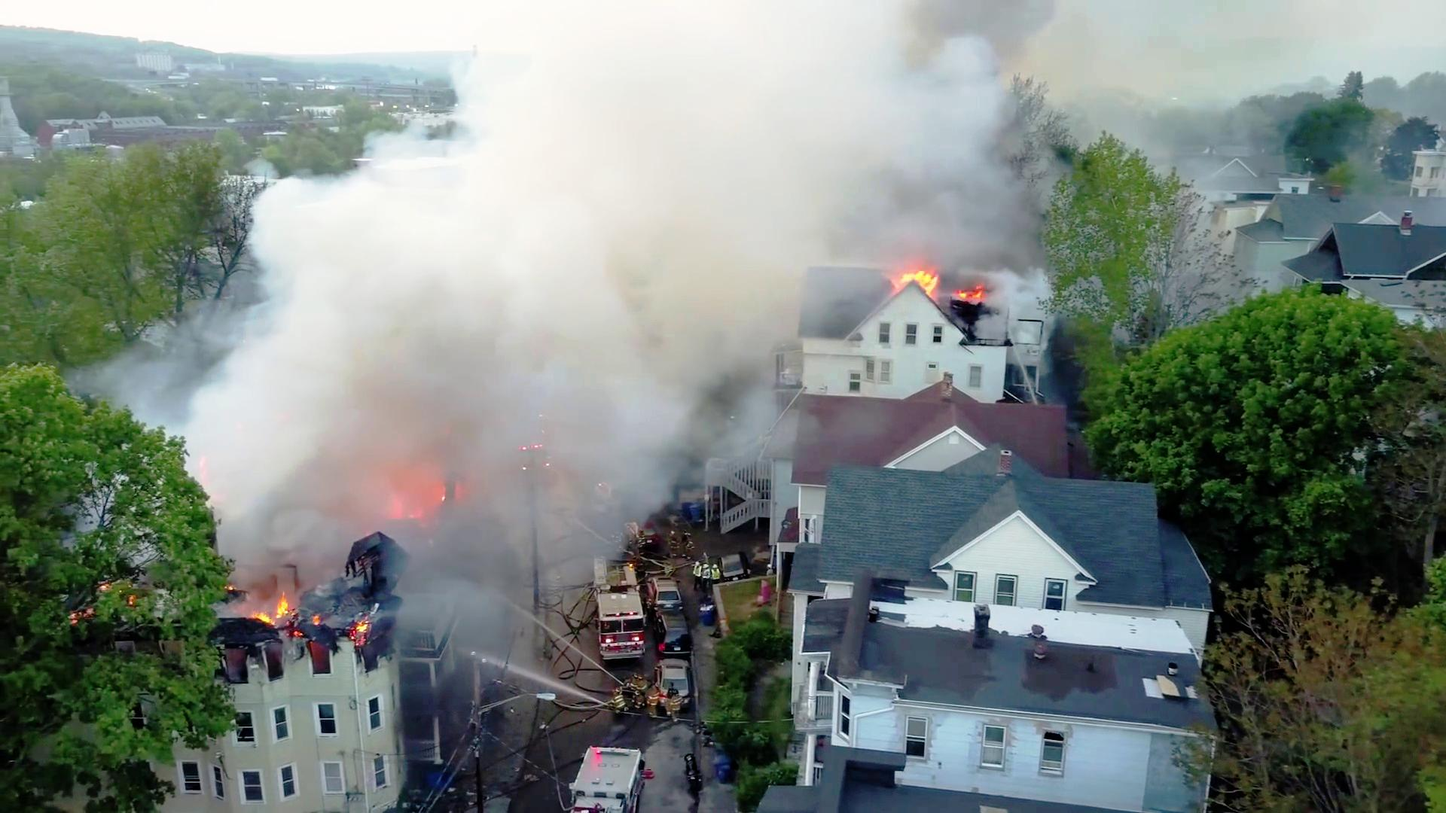smoke: (310, 198, 657, 443)
